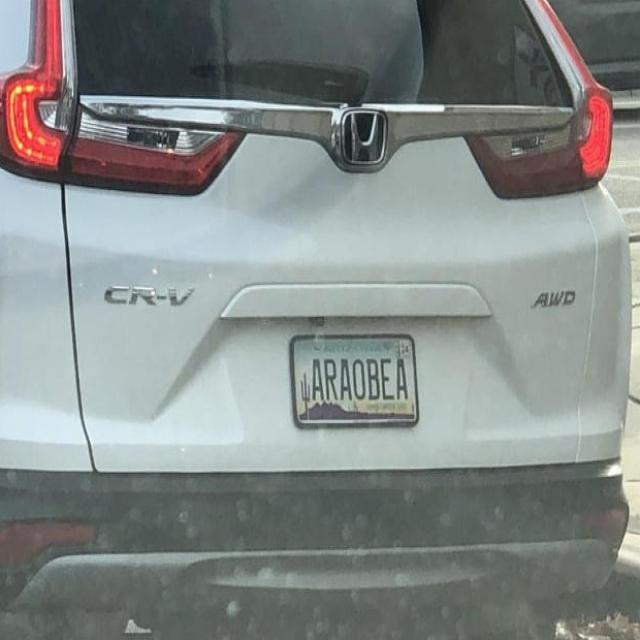LicensePlate: (288, 332, 420, 429)
